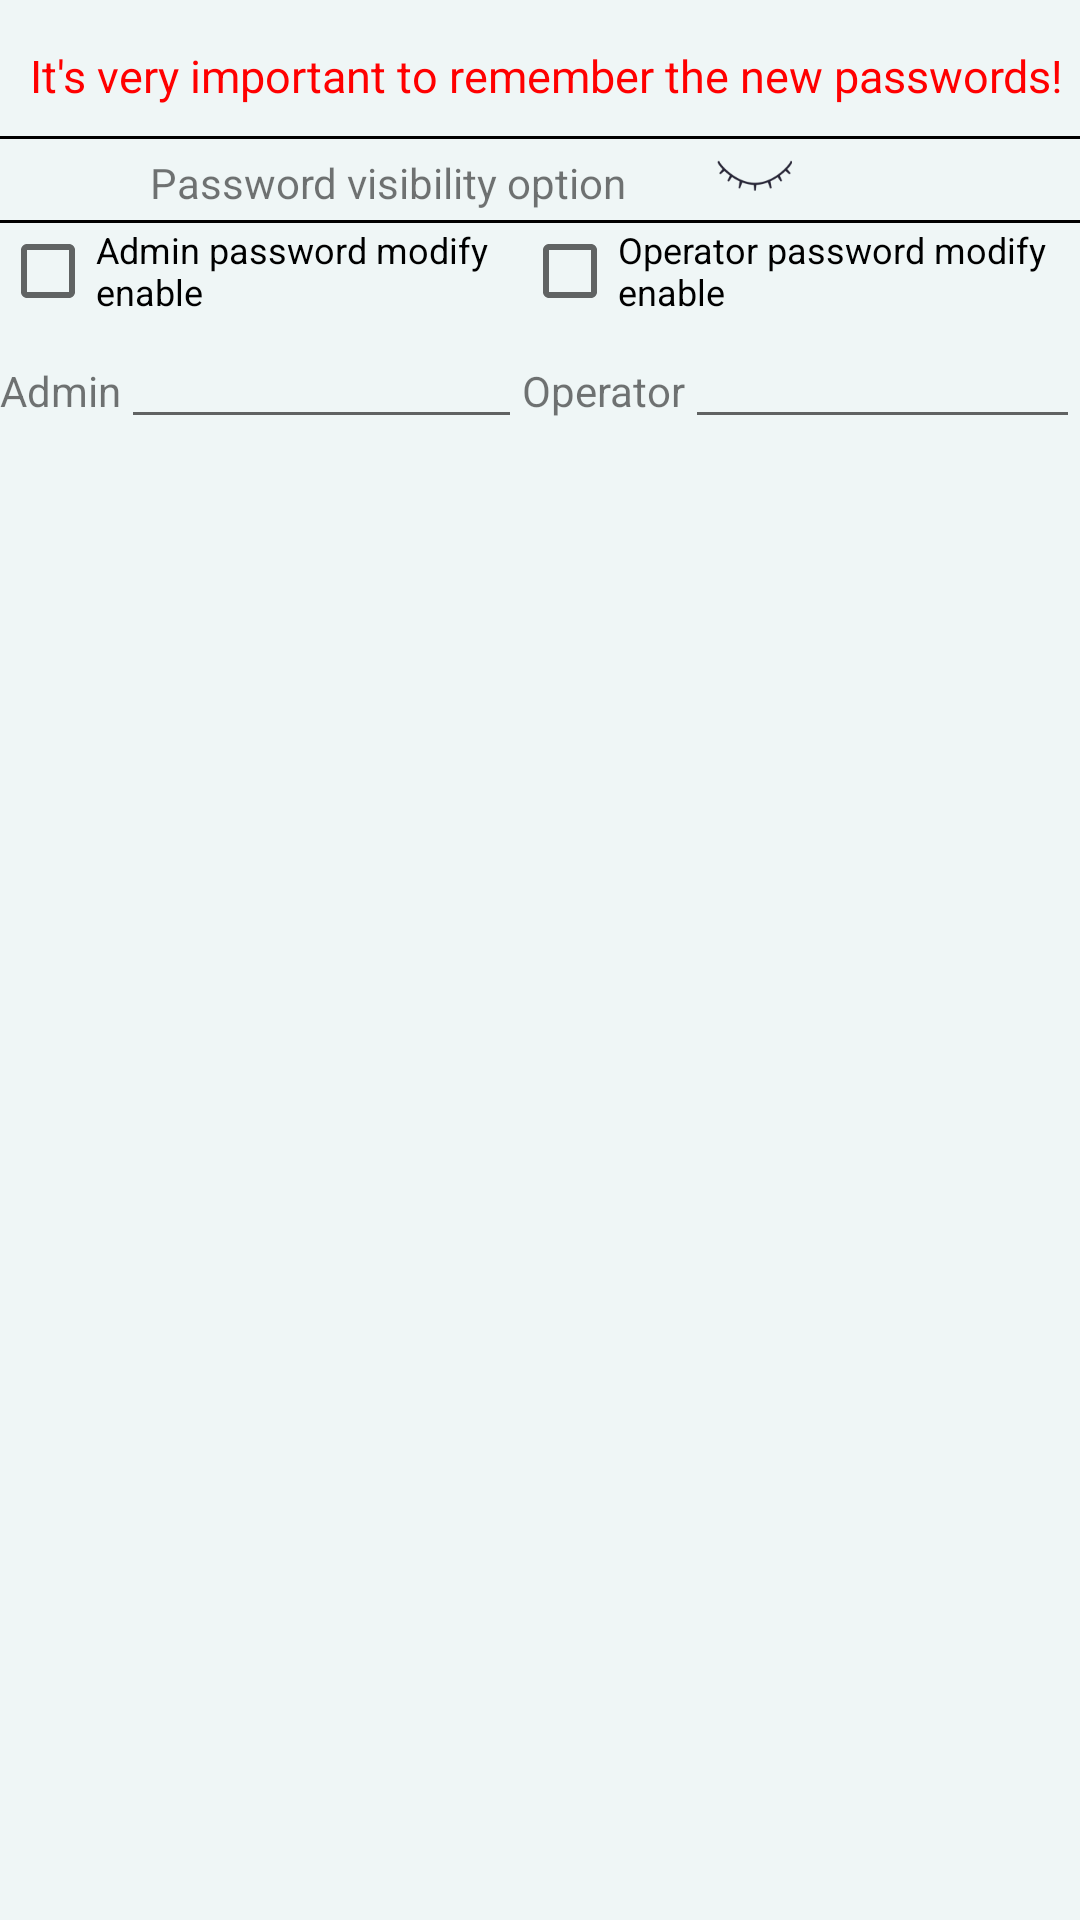

Icons on this 1080 × 1920 Android screen, each with its box as box=[x1, y1, x2, y2]:
eye: box=[717, 161, 792, 191]
